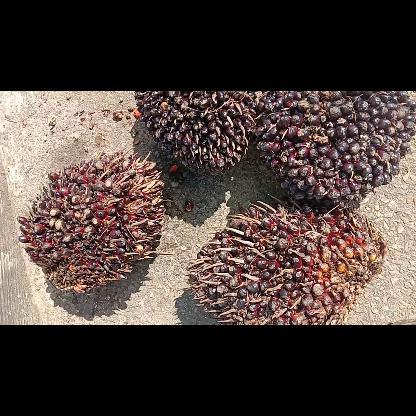TBS mentah: (184, 200, 386, 324), (17, 146, 173, 294), (255, 92, 415, 202), (134, 90, 254, 176)
